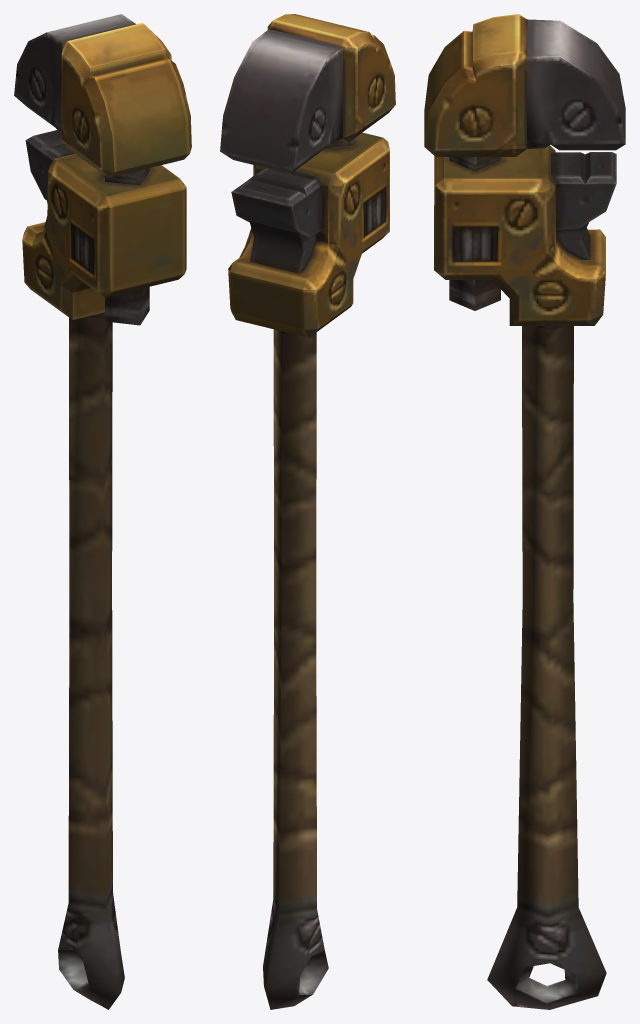
File: greathammer07_7cf0a93c.glb
3 renders of one model, left to right at view 1: azimuth 30°, elevation 25°; view 2: azimuth 150°, elevation 25°; view 3: azimuth 270°, elevation 25°, orthographic.
Bounding box in the file's own units: 0.2004 × 2.06 × 0.3847.
1 material, 1 textured.
